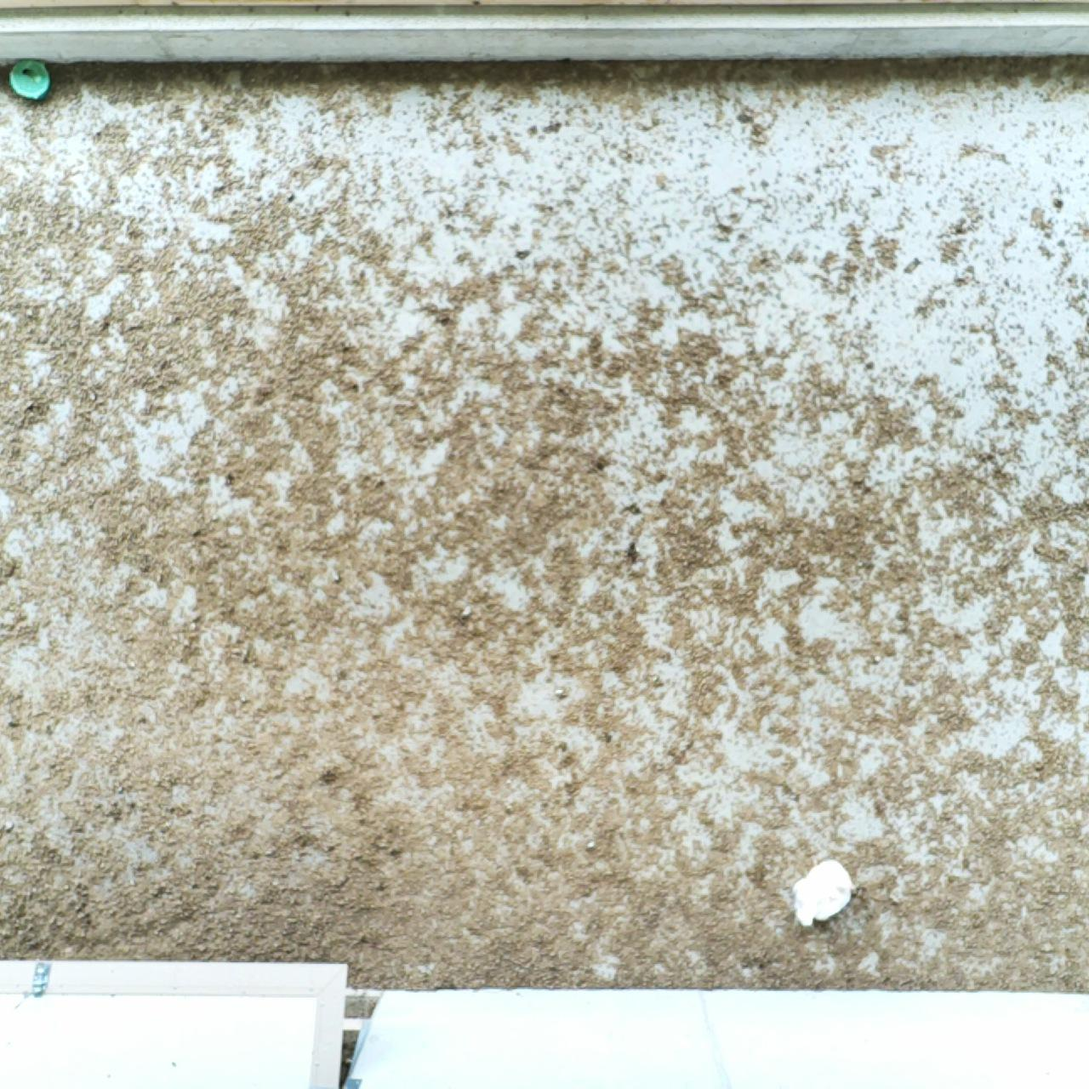chicken: (788, 851, 856, 930)
